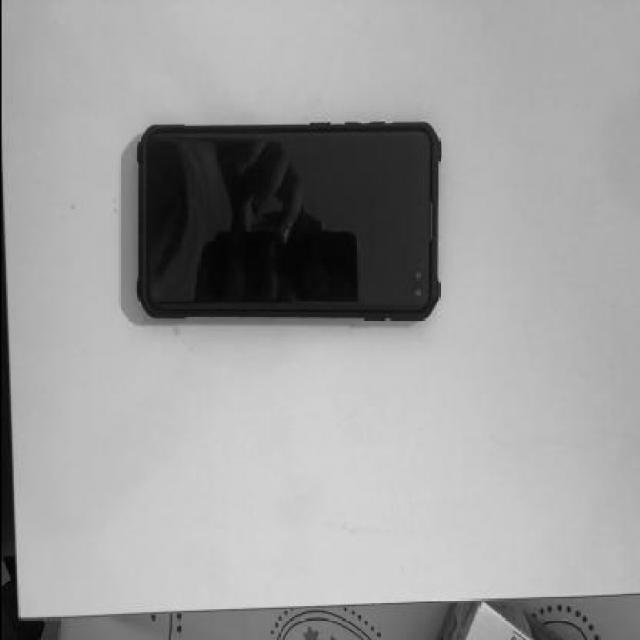fake: (132, 122, 440, 324)
